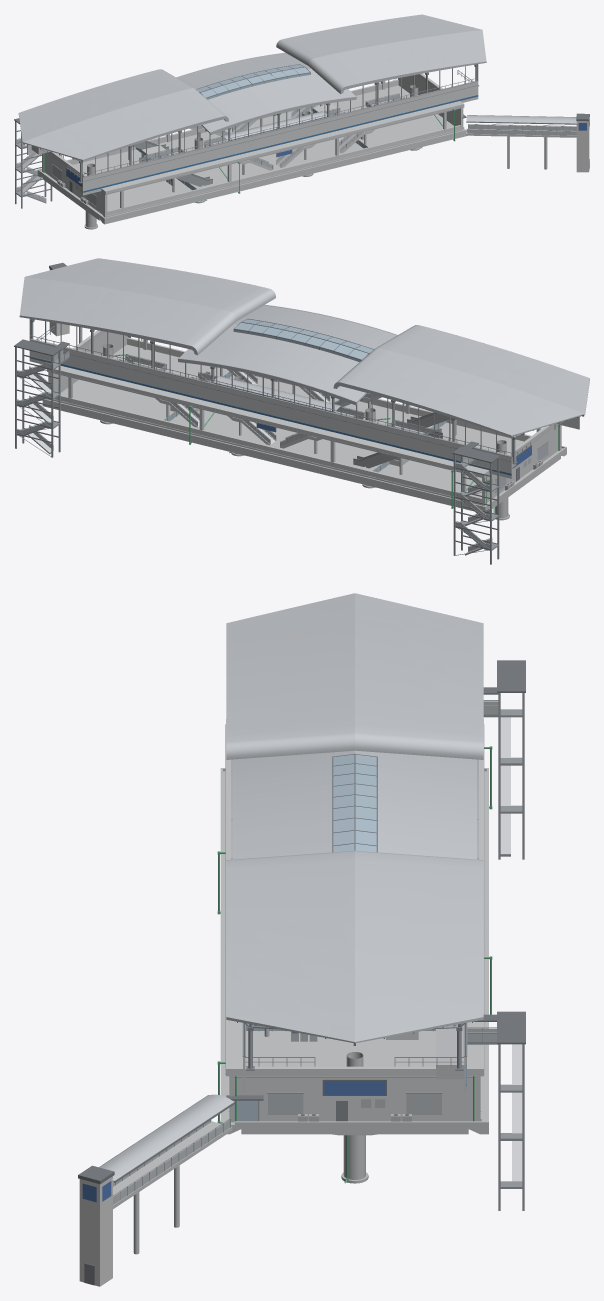
3 renders of one model, top to bottom at view 1: azimuth 30°, elevation 25°; view 2: azimuth 150°, elevation 25°; view 3: azimuth 270°, elevation 25°, orthographic. The views are drawn at different scales.
Visible parts, largest first — view 1: BL03, BL03_conc, BL03_access; view 2: BL03, BL03_conc, BL03_access; view 3: BL03, BL03_conc, BL03_access.
Boxes of the visible parts, x1=… form: BL03: x1=18, y1=14, x2=486, y2=195; BL03_conc: x1=37, y1=73, x2=467, y2=229; BL03_access: x1=14, y1=78, x2=589, y2=215; BL03: x1=19, y1=258, x2=589, y2=478; BL03_conc: x1=42, y1=330, x2=566, y2=520; BL03_access: x1=14, y1=263, x2=559, y2=564; BL03: x1=226, y1=593, x2=483, y2=1092; BL03_conc: x1=220, y1=719, x2=488, y2=1183; BL03_access: x1=78, y1=660, x2=525, y2=1286.
Bounding box in the file's own units: 125 × 27.28 × 48.07.
